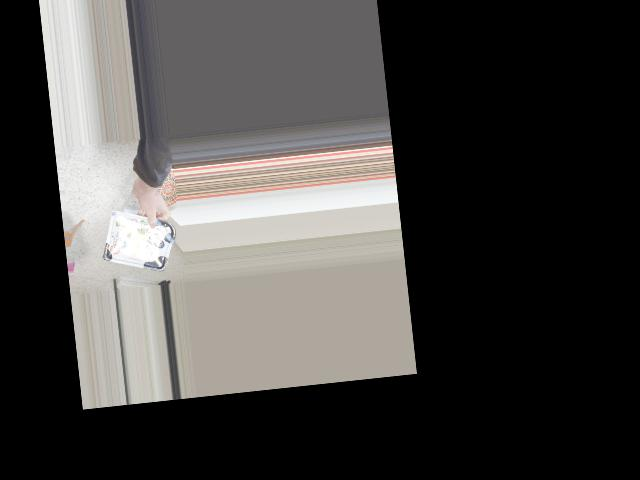cheese: (107, 216, 175, 269)
